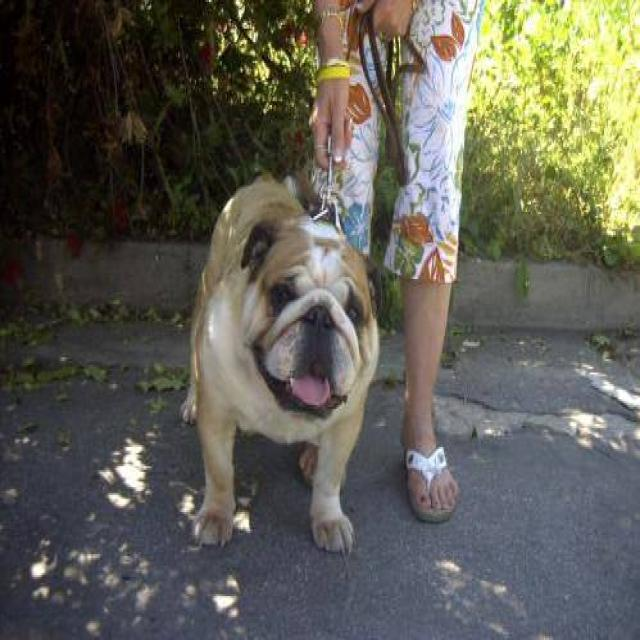Dog: (235, 188, 382, 444)
